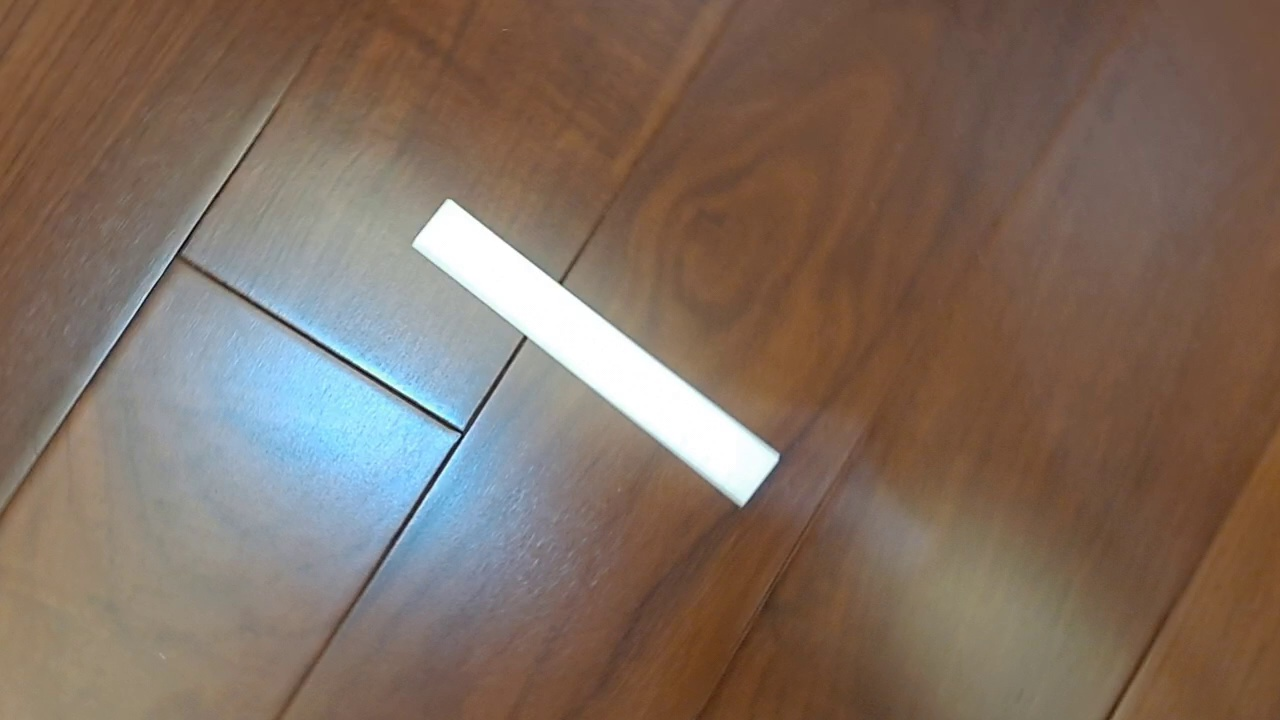ruler: (410, 197, 781, 510)
